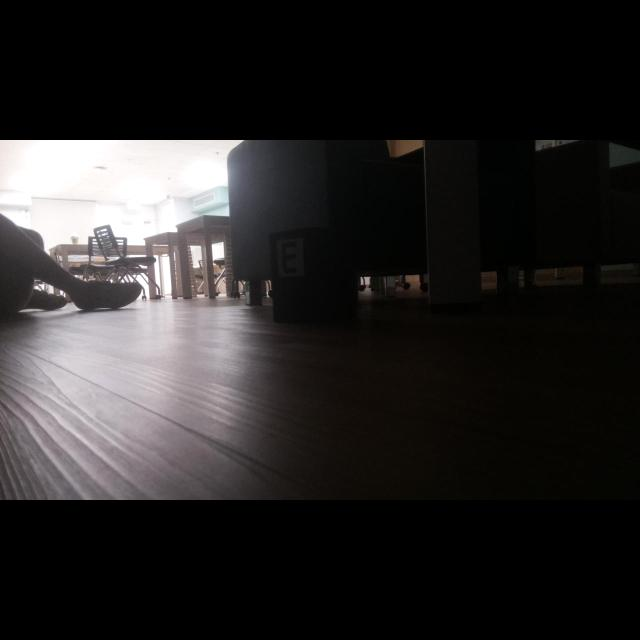E: (282, 241, 297, 273)
